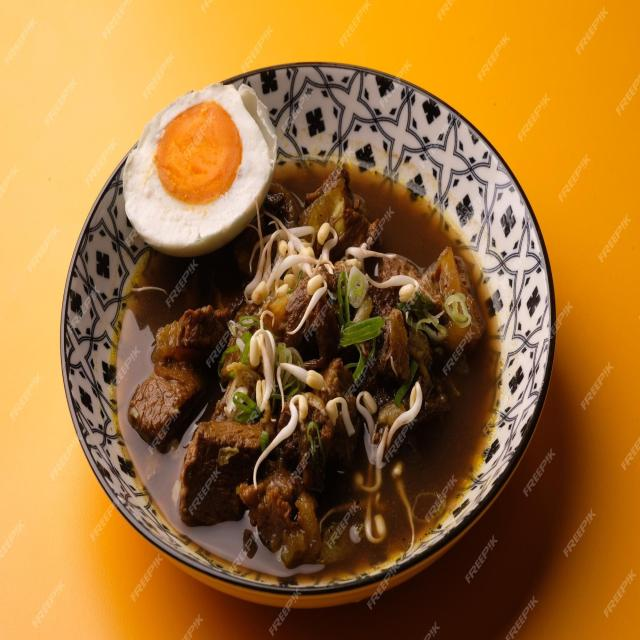Rawon: (118, 183, 473, 555)
